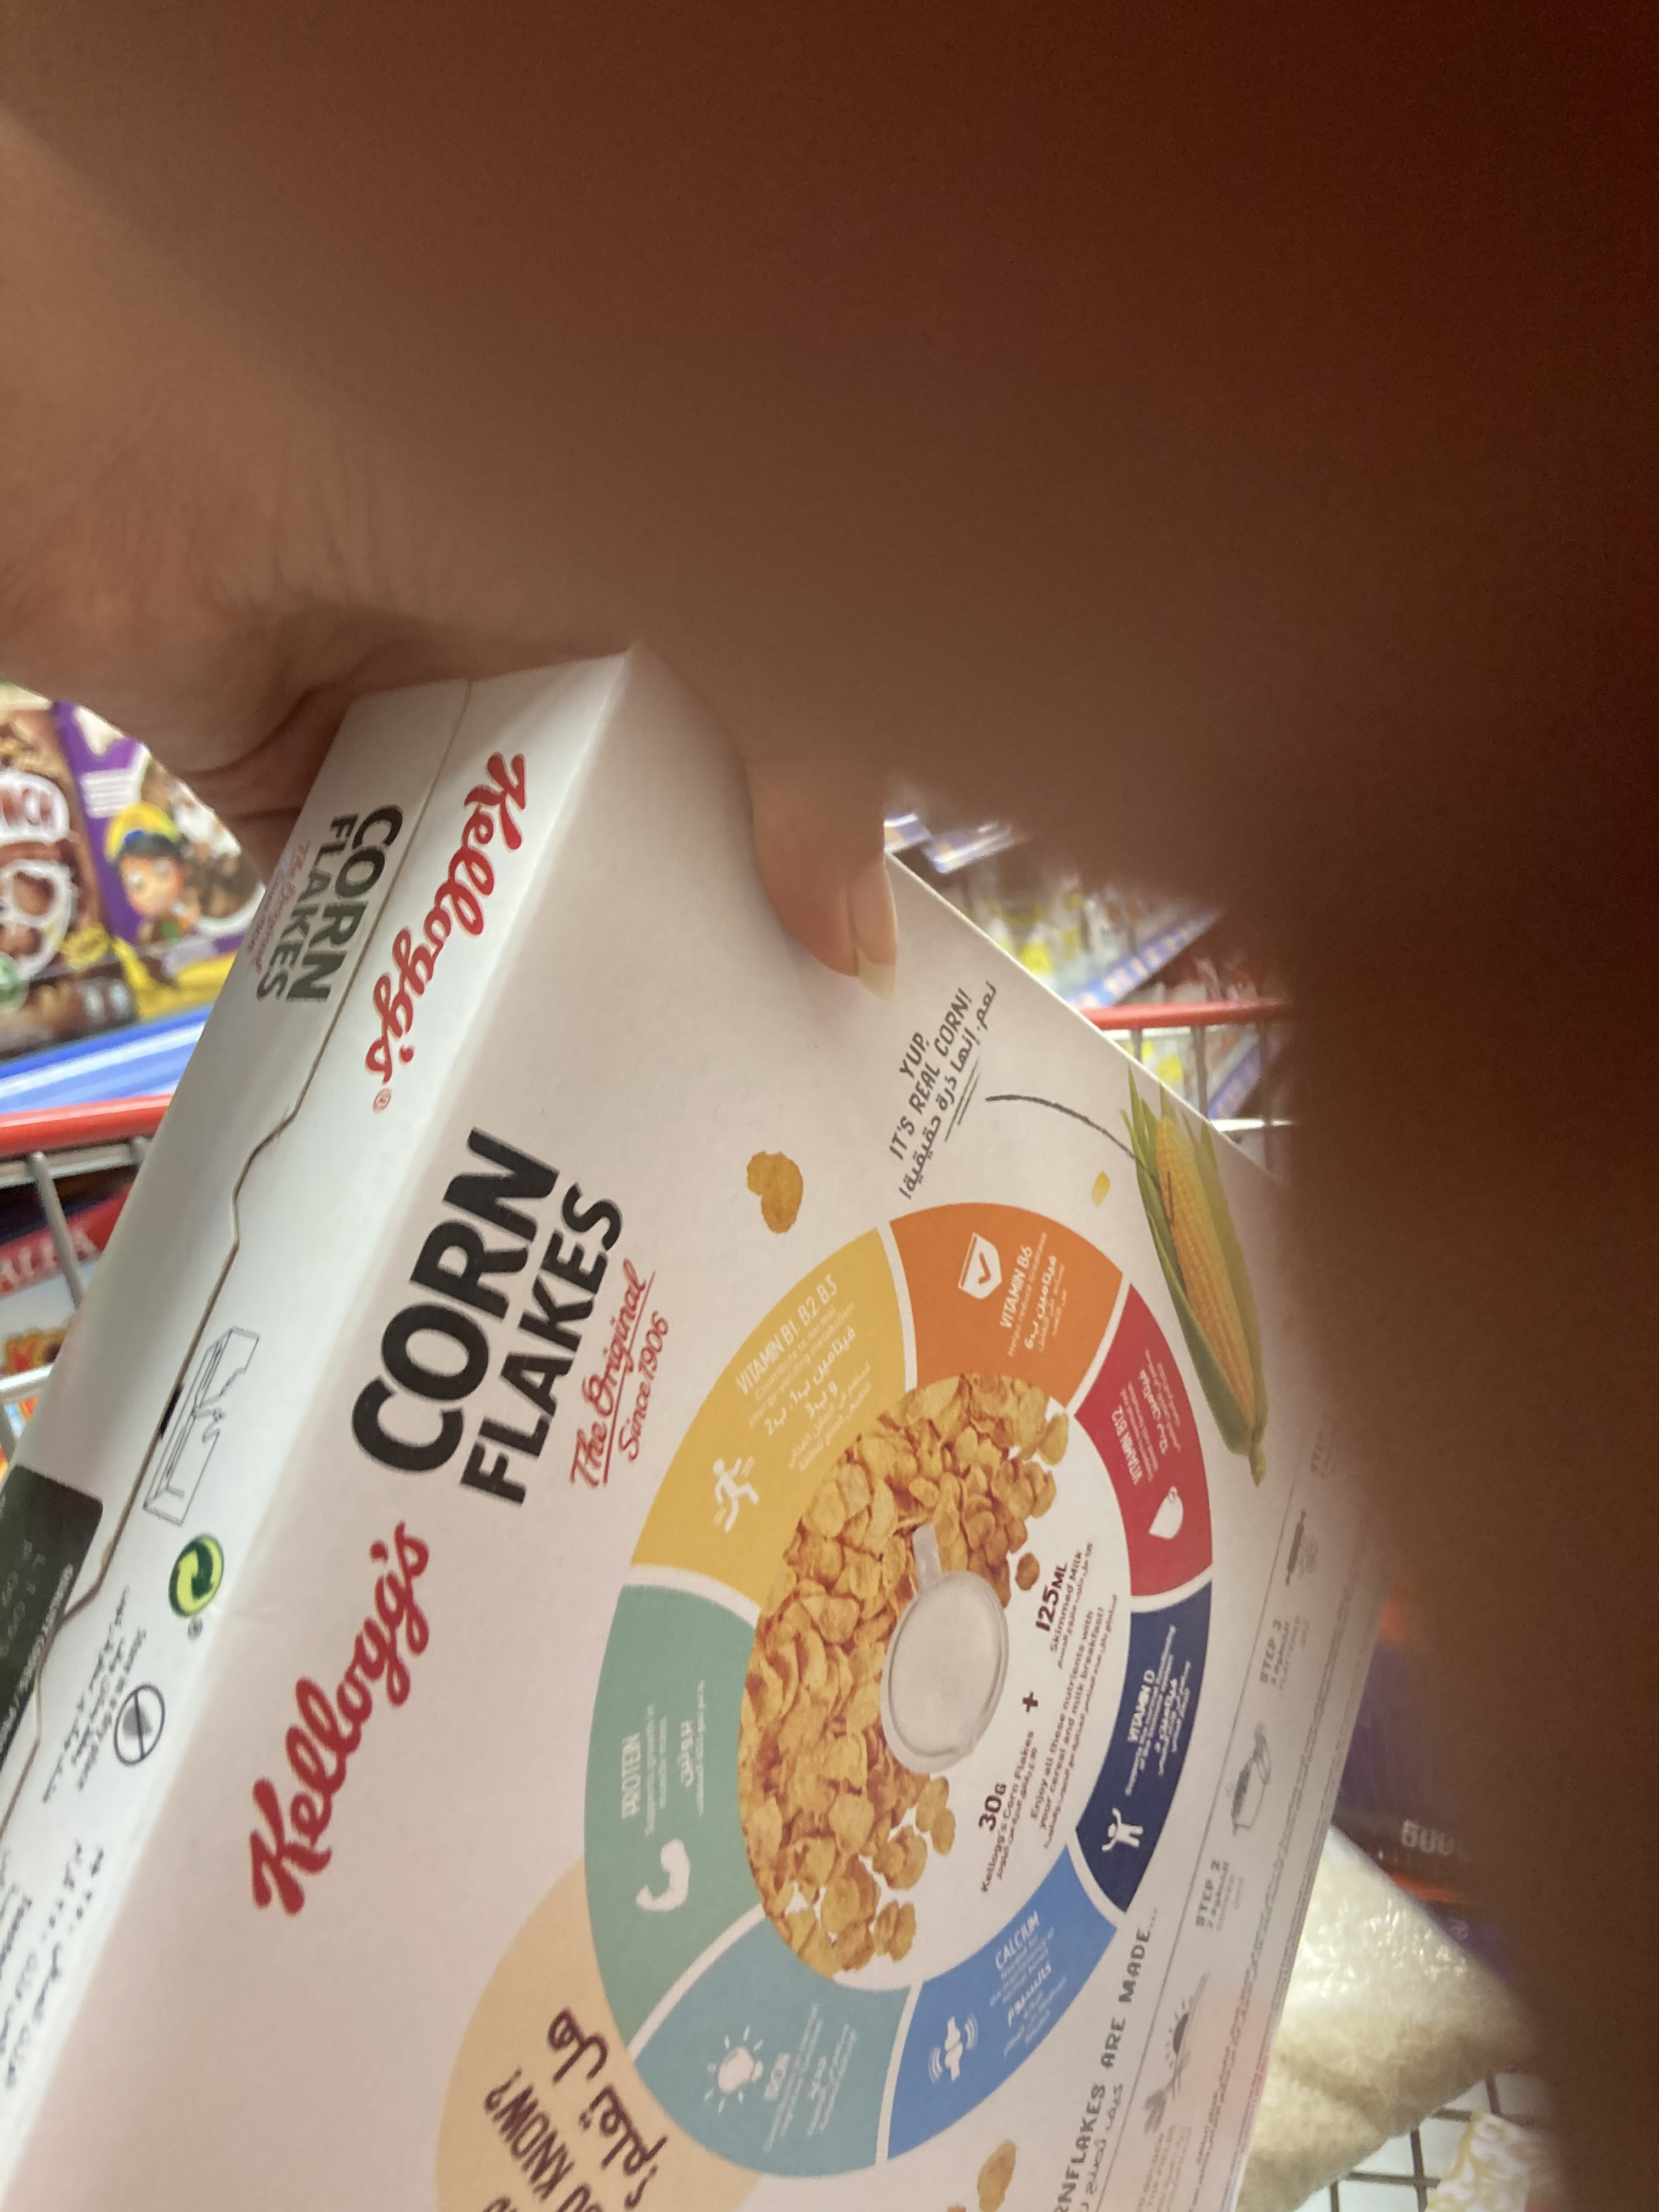Kellogg's Corn Flakes: (9, 650, 1384, 2212)
